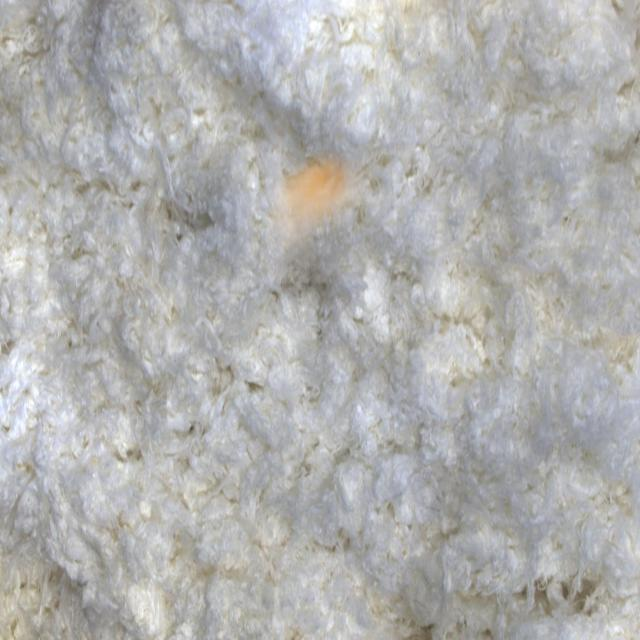dust: (260, 149, 372, 283)
